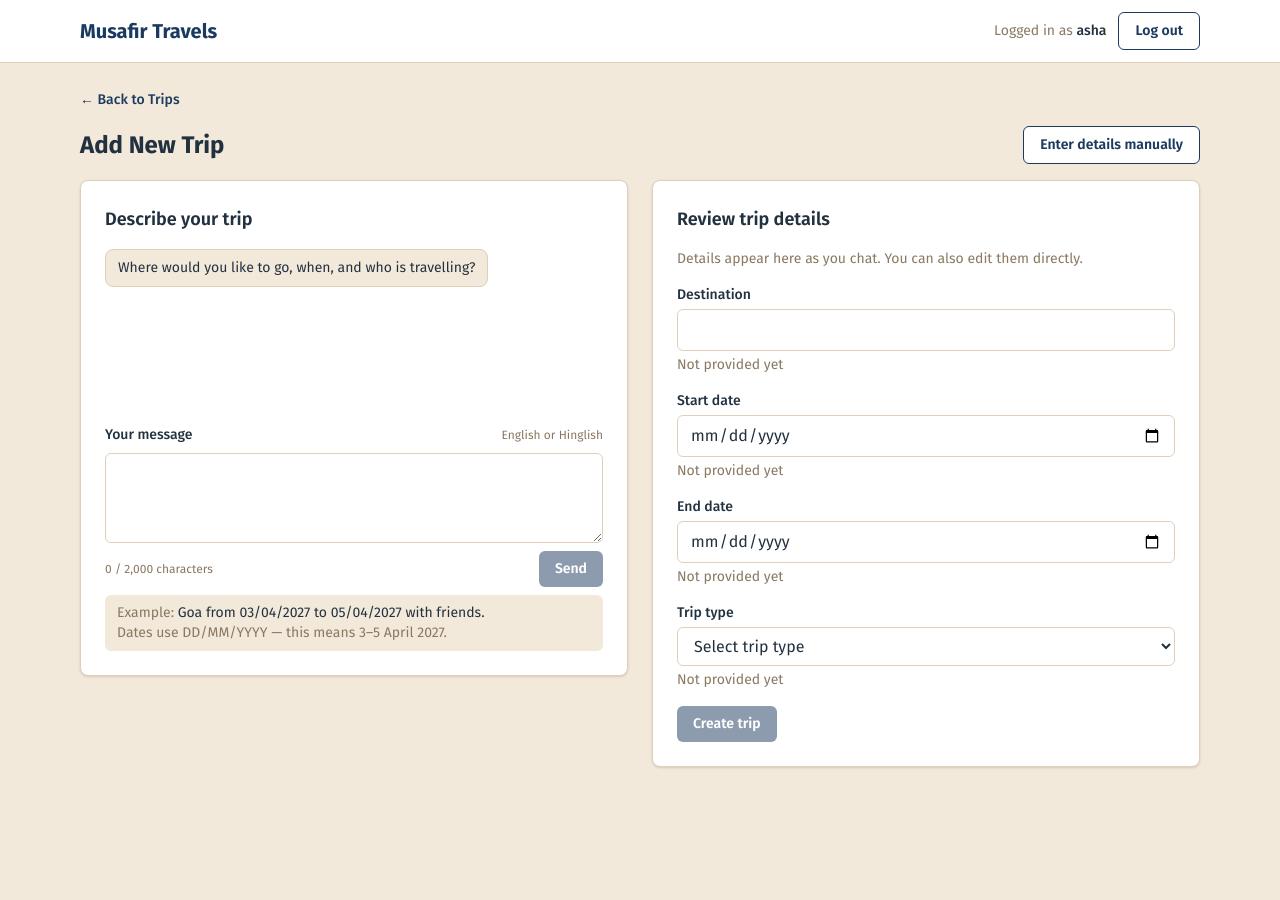
TripChat — errors › 503 shows a brief message with retry and manual entry; retry does not duplicate the user message
Type "Goa from 03/04/2027 to 05/04/2027 with friends" into the text box labelled "Your message" at [354, 498], box [105,453,603,543]
Then press Enter
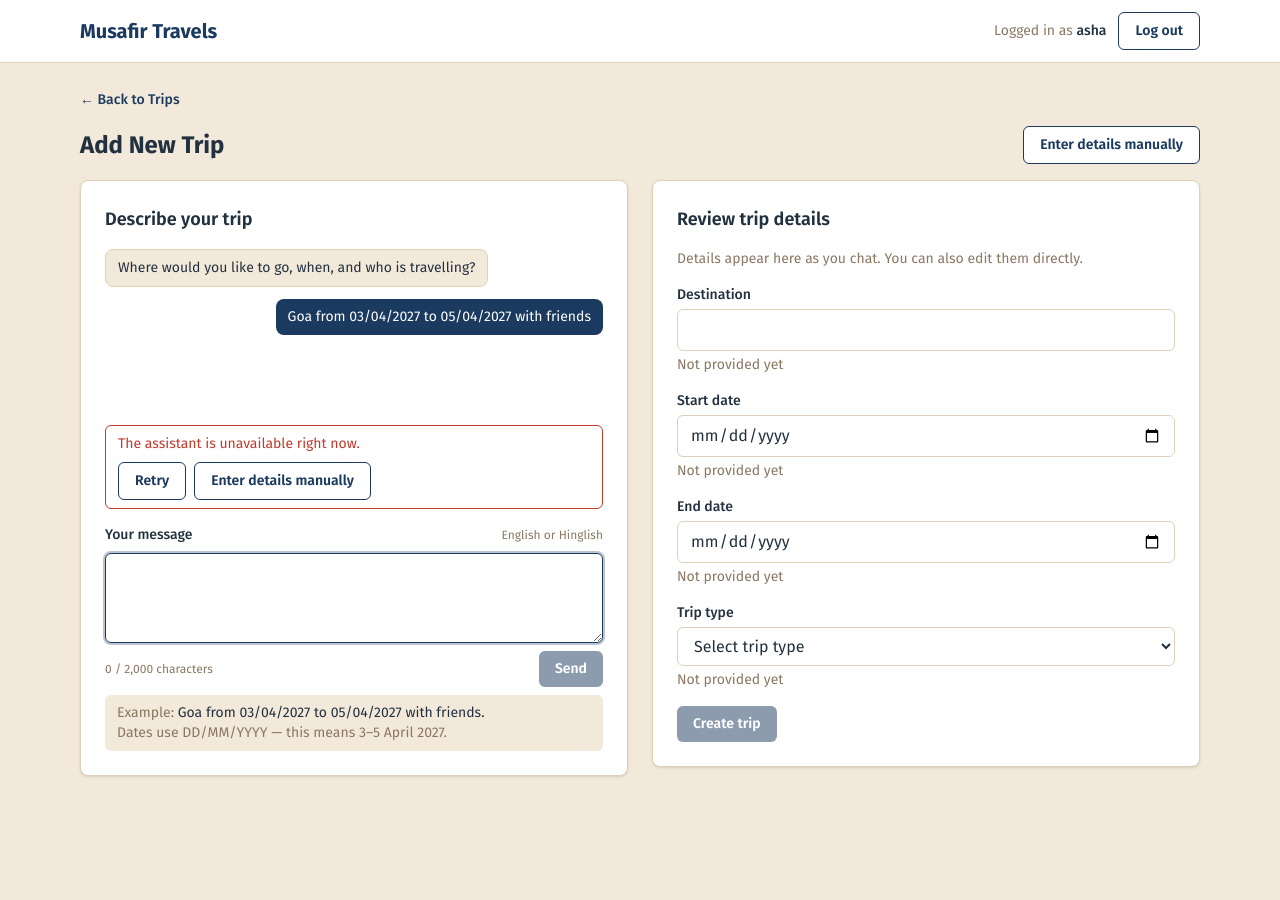
Expected: the text "The assistant is unavailable right now." is shown, [118,435,360,452]
Expected: the button "Enter details manually" below "The assistant is unavailable right now." is shown, [194,462,371,500]
Click the button "Retry" at [152, 481], box [118,462,186,500]
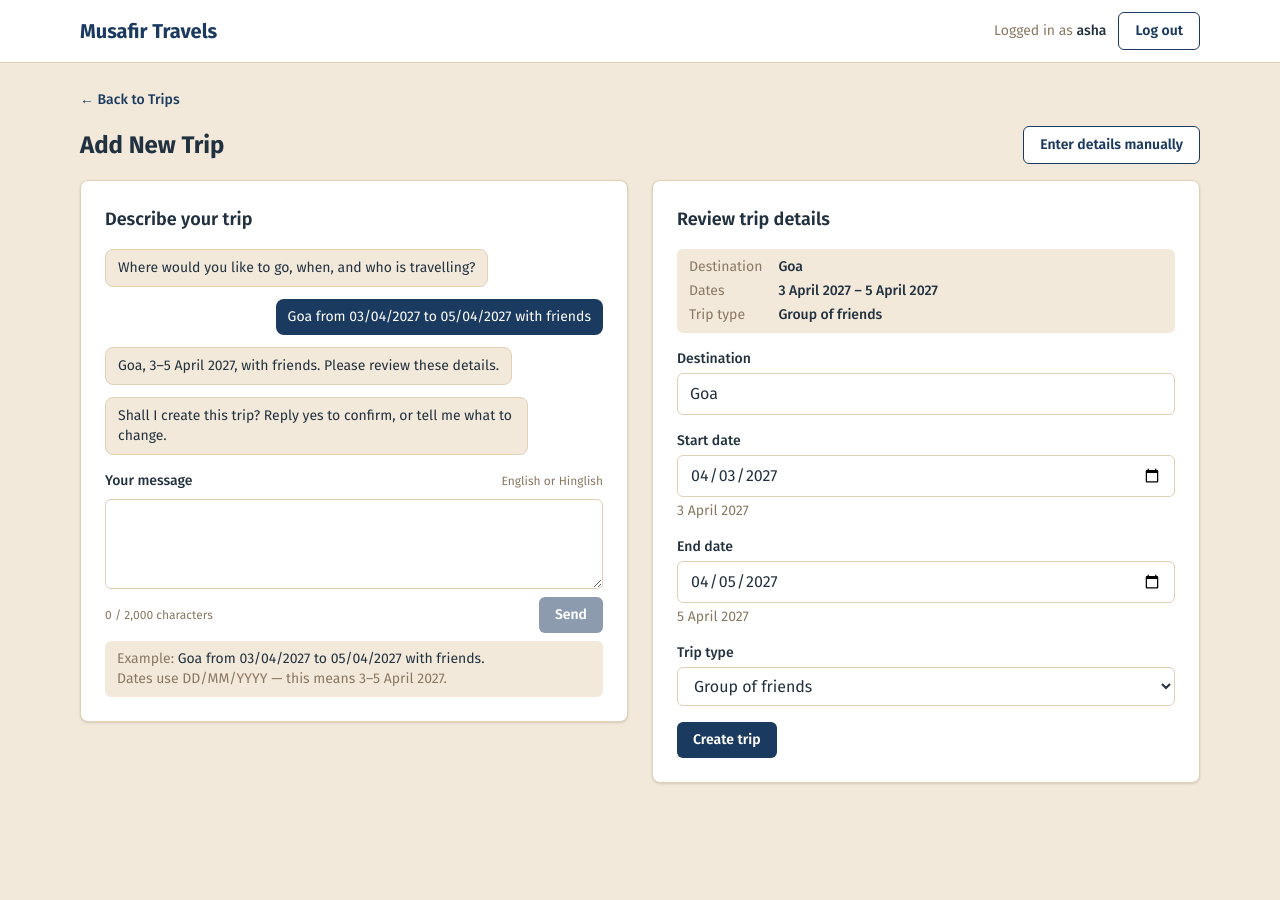
Expected: the text "Goa, 3–5 April 2027, with friends. Please review these details." is shown, [105,347,512,385]
Expected: the text "Goa from 03/04/2027 to 05/04/2027 with friends" is shown once, [276,299,603,335]
